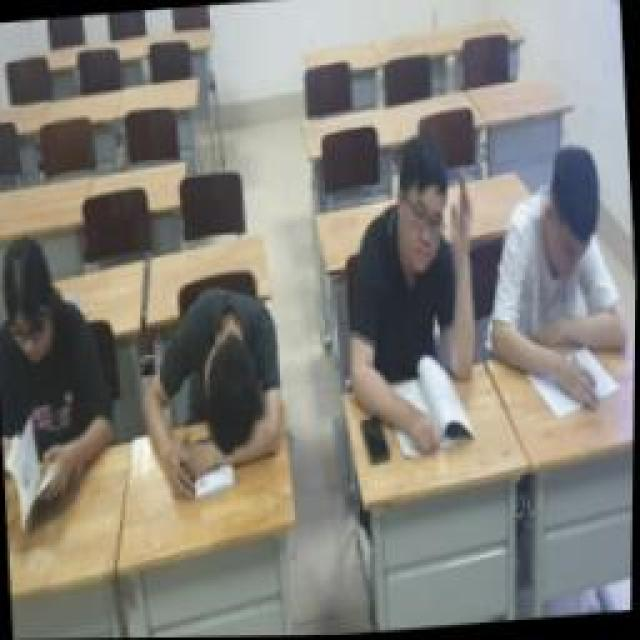sleep: (135, 283, 290, 485)
study: (330, 135, 488, 457), (480, 142, 632, 410), (0, 224, 122, 507)
